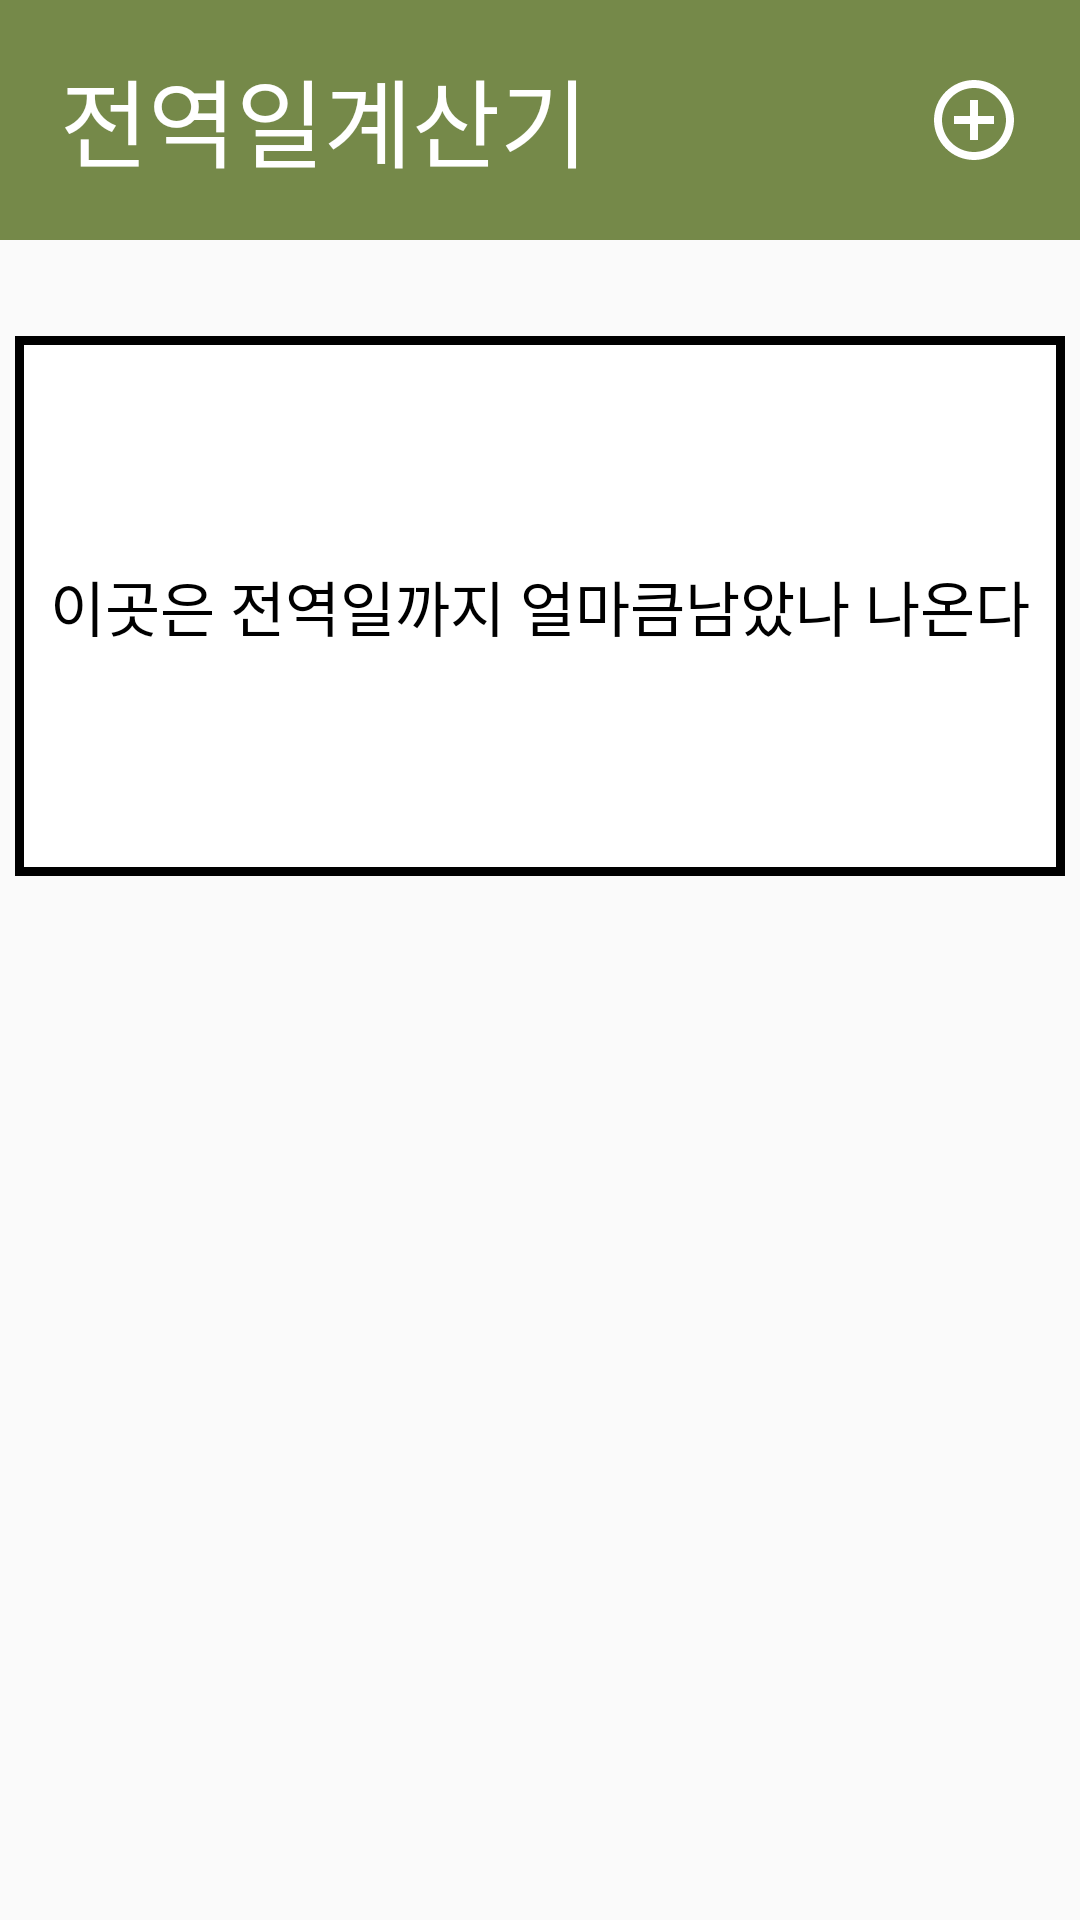

Where icons sit on this 1080 x 1920 app screen, as BBox(x1, y1, x2, y2):
add circle: BBox(934, 80, 1014, 160)
